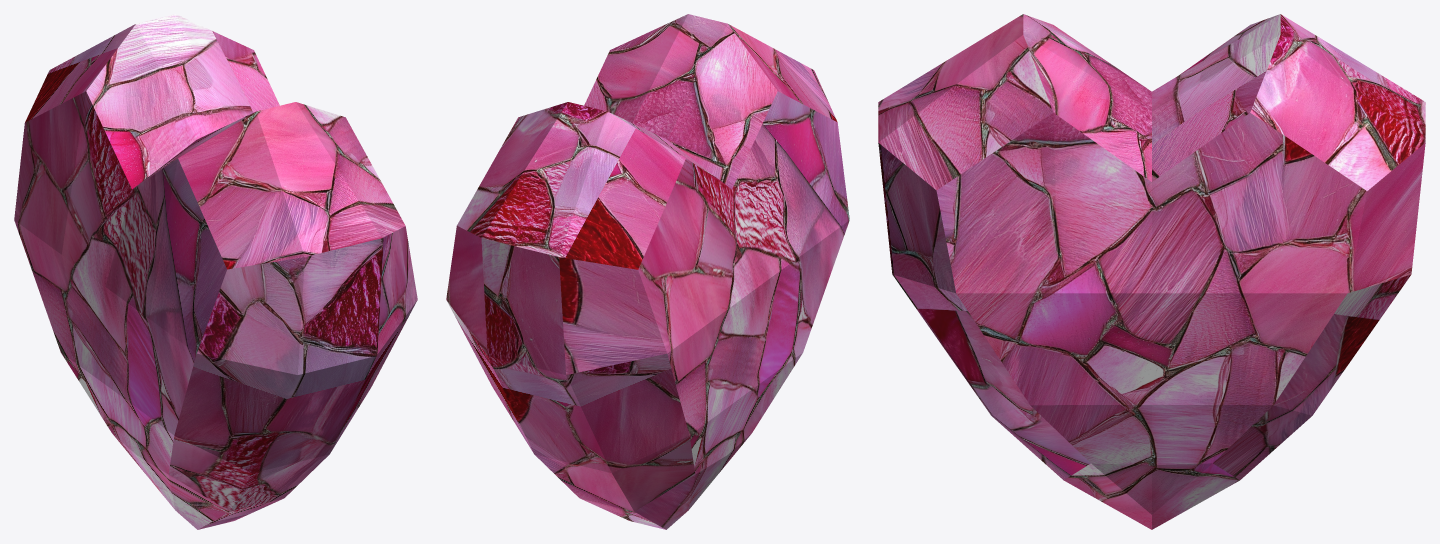
Rendered from gemstone1Pink.glb.
3 renders of one model, left to right at view 1: azimuth 30°, elevation 25°; view 2: azimuth 150°, elevation 25°; view 3: azimuth 270°, elevation 25°, orthographic. The views are drawn at different scales.
Visible parts, largest first — view 1: geamstoneHeart; view 2: geamstoneHeart; view 3: geamstoneHeart.
Boxes of the visible parts, x1=… form: geamstoneHeart: x1=14, y1=14, x2=417, y2=529; geamstoneHeart: x1=446, y1=14, x2=849, y2=529; geamstoneHeart: x1=878, y1=14, x2=1425, y2=529.
Bounding box in the file's own units: 0.5 × 1 × 1.
1 material, 1 textured.
